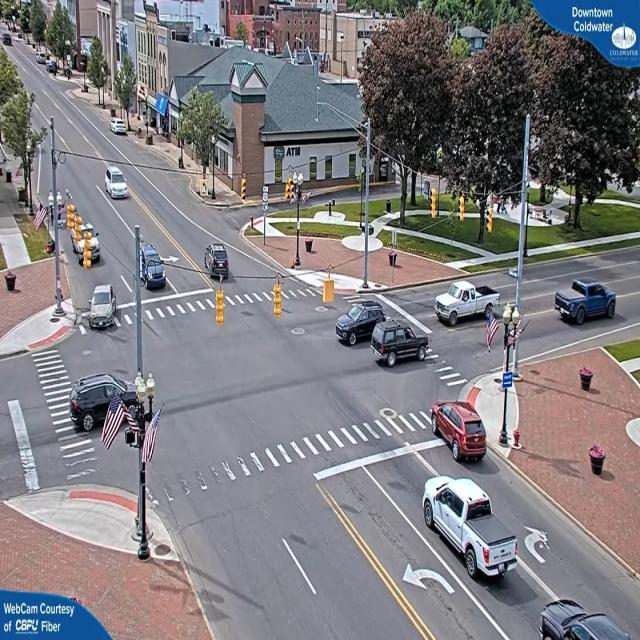car: (421, 476, 512, 583), (68, 373, 134, 438), (538, 601, 640, 638), (433, 401, 489, 464), (433, 280, 499, 326), (556, 278, 618, 326), (372, 321, 429, 368), (339, 296, 391, 344), (138, 242, 167, 290), (89, 284, 117, 331), (204, 242, 232, 282), (104, 168, 133, 201), (79, 232, 104, 267), (111, 120, 129, 136)
